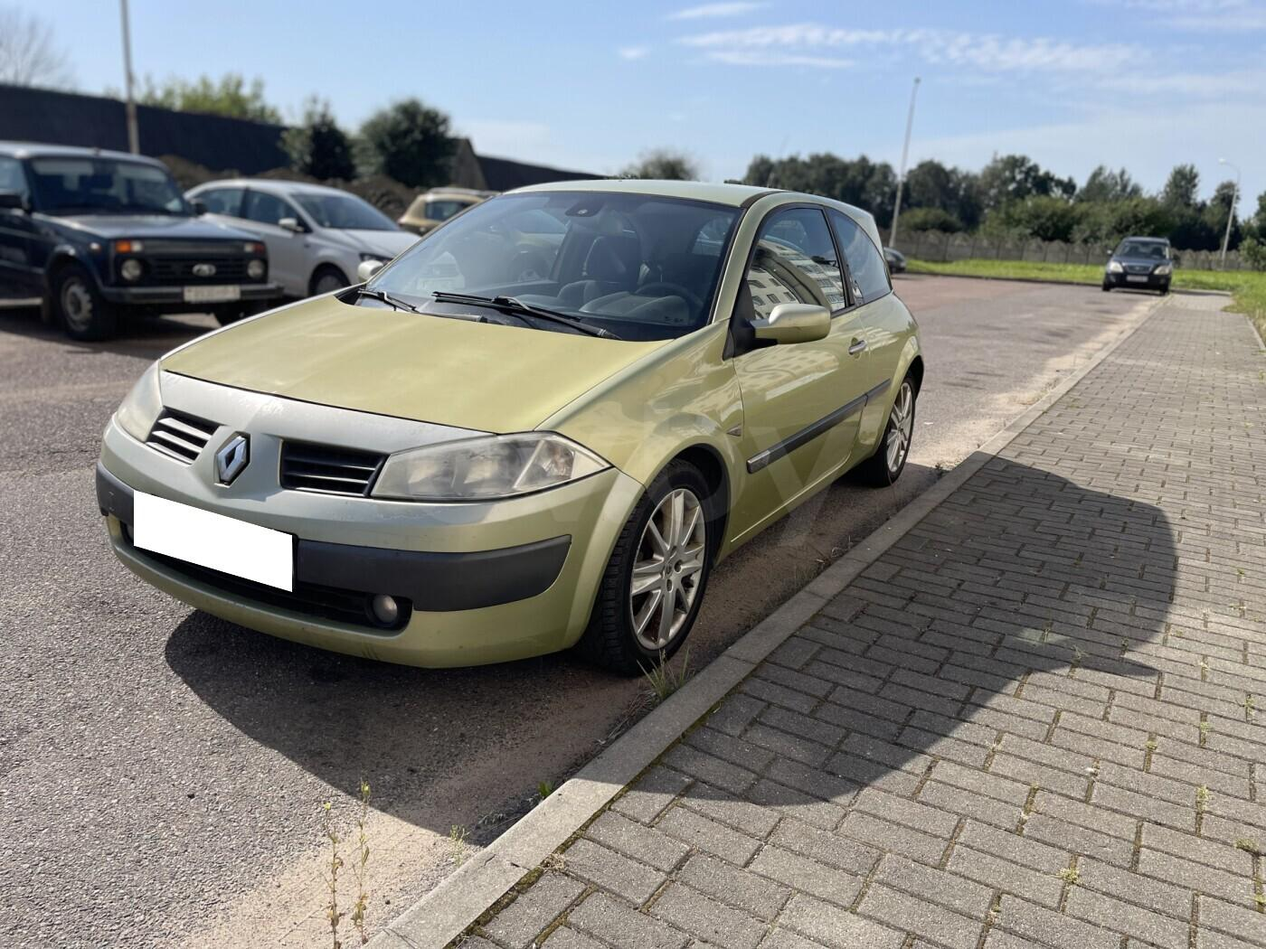Megane_2002-2006: (99, 168, 940, 687)
